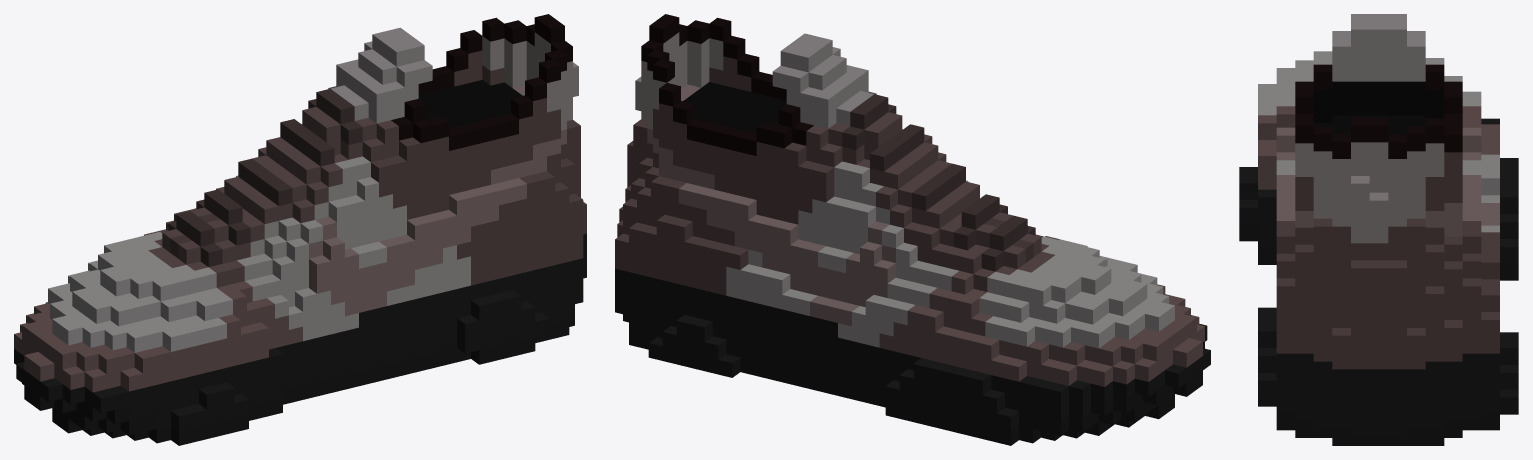
3 renders of one model, left to right at view 1: azimuth 30°, elevation 25°; view 2: azimuth 150°, elevation 25°; view 3: azimuth 270°, elevation 25°, orthographic. The views are drawn at different scales.
Visible parts, largest first — view 1: Untitled; view 2: Untitled; view 3: Untitled.
Boxes of the visible parts, bbox=[...] form: Untitled: bbox=[14, 14, 586, 445]; Untitled: bbox=[615, 14, 1210, 445]; Untitled: bbox=[1239, 14, 1518, 445].
Bounding box in the file's own units: 390 × 200 × 150.
